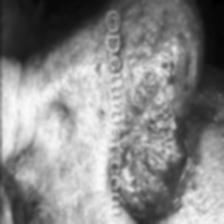Non-Cancerous Skin Condition: (119, 0, 204, 224), (27, 13, 105, 219)
